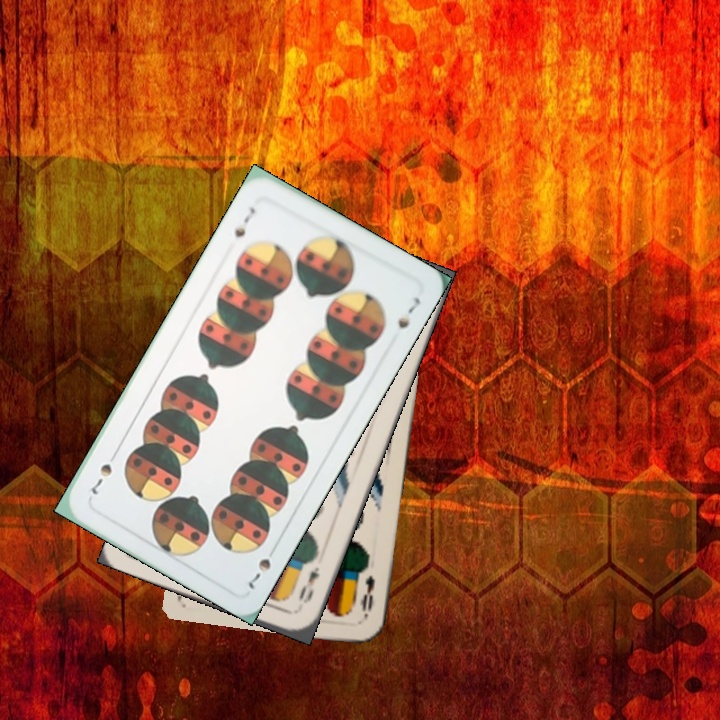EO: (294, 562, 323, 607), (357, 571, 378, 621)
S7: (244, 554, 274, 592), (230, 202, 258, 241)
